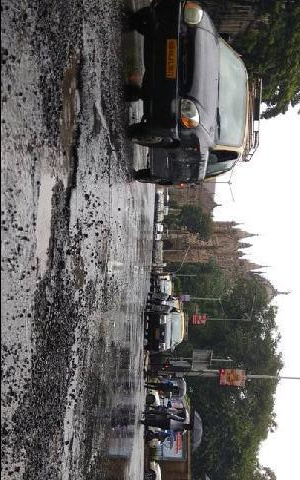pothole: (55, 50, 84, 201), (33, 167, 63, 284)
